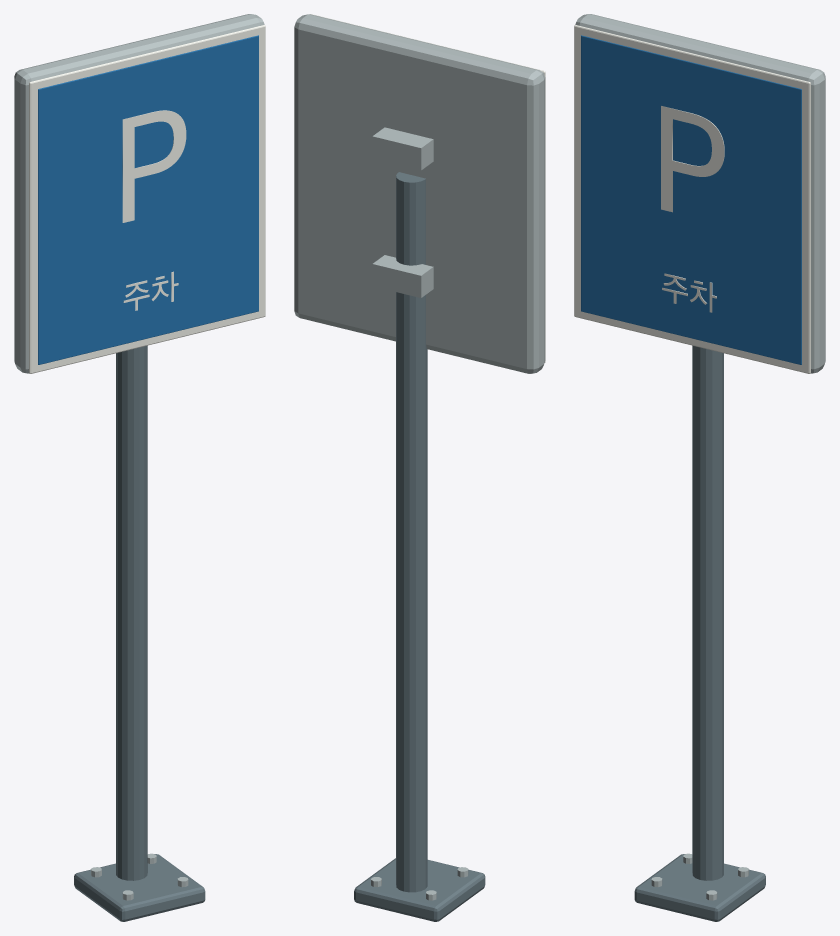
File: SIMUS_Sign_Parking.glb
3 views of the same model, side by side, from view 1: azimuth 30°, elevation 25°; view 2: azimuth 150°, elevation 25°; view 3: azimuth 330°, elevation 25° (orthographic).
Visible parts, largest first — view 1: Blue face.002, Post.005, White border.002, Board back.002, Foot plate.005, Legend P, Legend 주차; view 2: Board back.002, Post.005, Foot plate.005, Rear clamp.011, Rear clamp.010, White border.002; view 3: Blue face.002, Post.005, White border.002, Board back.002, Foot plate.005, Legend P, Legend 주차.
Part boxes in pixels (<box>): Blue face.002: <box>38,35,258,364</box>; Post.005: <box>116,345,147,880</box>; White border.002: <box>29,25,265,373</box>; Board back.002: <box>14,14,264,373</box>; Foot plate.005: <box>74,854,205,921</box>; Legend P: <box>122,110,186,222</box>; Legend 주차: <box>123,271,178,310</box>; Board back.002: <box>294,14,545,373</box>; Post.005: <box>396,172,427,892</box>; Foot plate.005: <box>354,858,485,921</box>; Rear clamp.011: <box>372,127,433,170</box>; Rear clamp.010: <box>372,255,433,297</box>; White border.002: <box>310,14,545,362</box>; Blue face.002: <box>581,35,801,364</box>; Post.005: <box>692,345,723,880</box>; White border.002: <box>574,25,810,373</box>; Board back.002: <box>575,14,825,373</box>; Foot plate.005: <box>634,854,765,921</box>; Legend P: <box>661,106,724,212</box>; Legend 주차: <box>662,273,716,312</box>.
Size of the model in its own units: 0.8 by 2.67 by 0.28.
